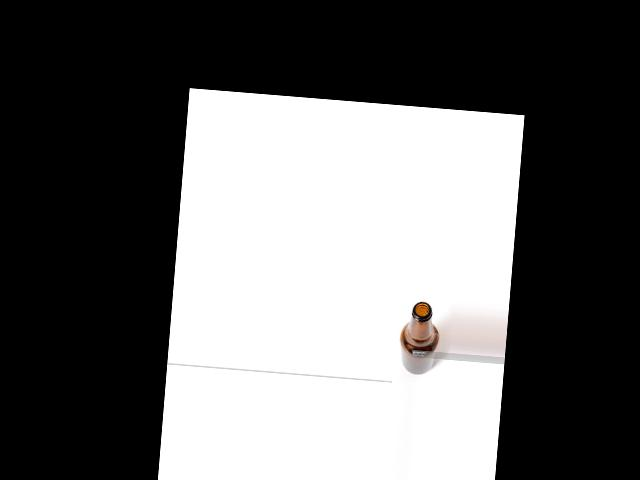beer: (397, 300, 442, 376)
